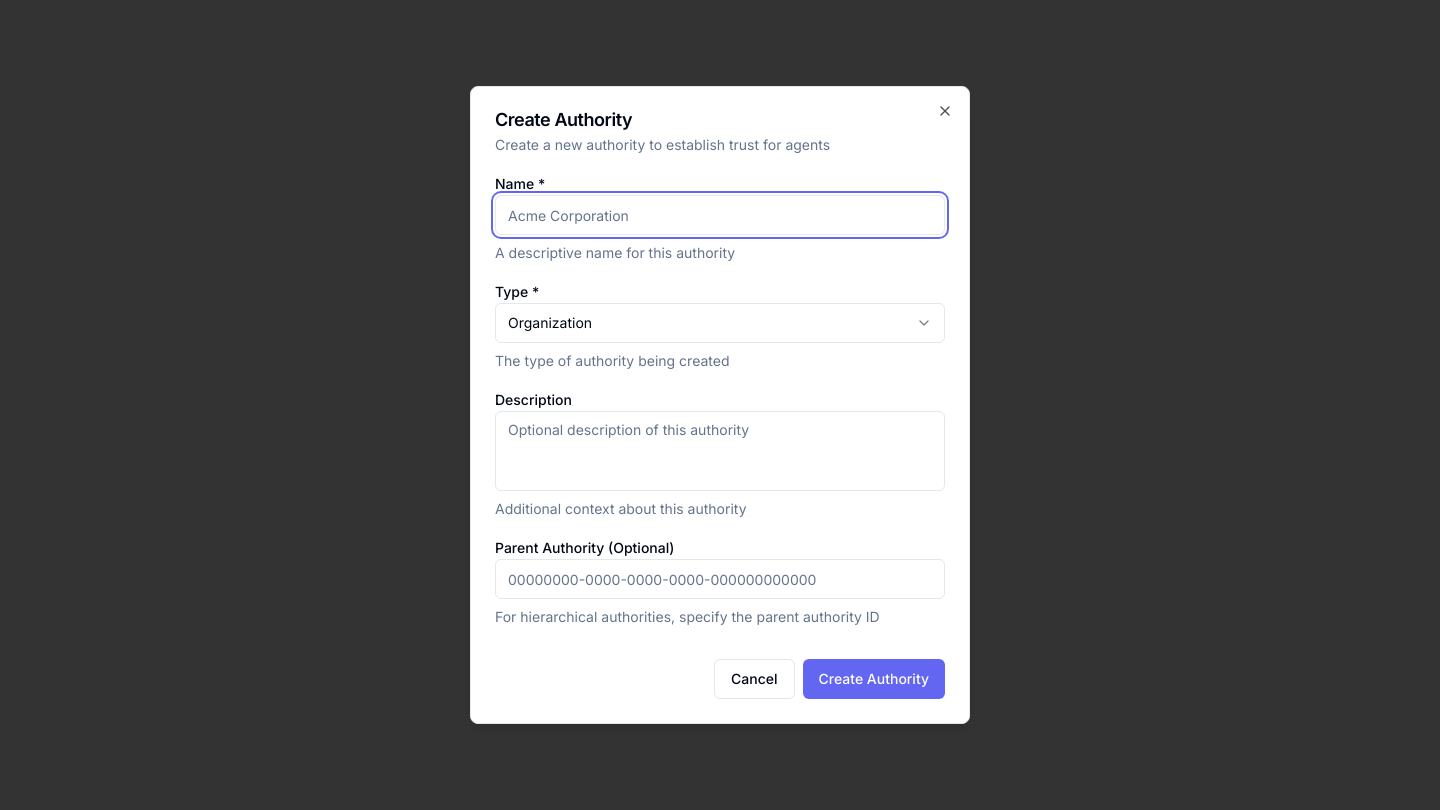
Test: CreateAuthorityDialog › validates required fields
# Try to submit without filling required fields
Click the button "Create Authority".
click(874, 679)  # box [802,659,945,699]
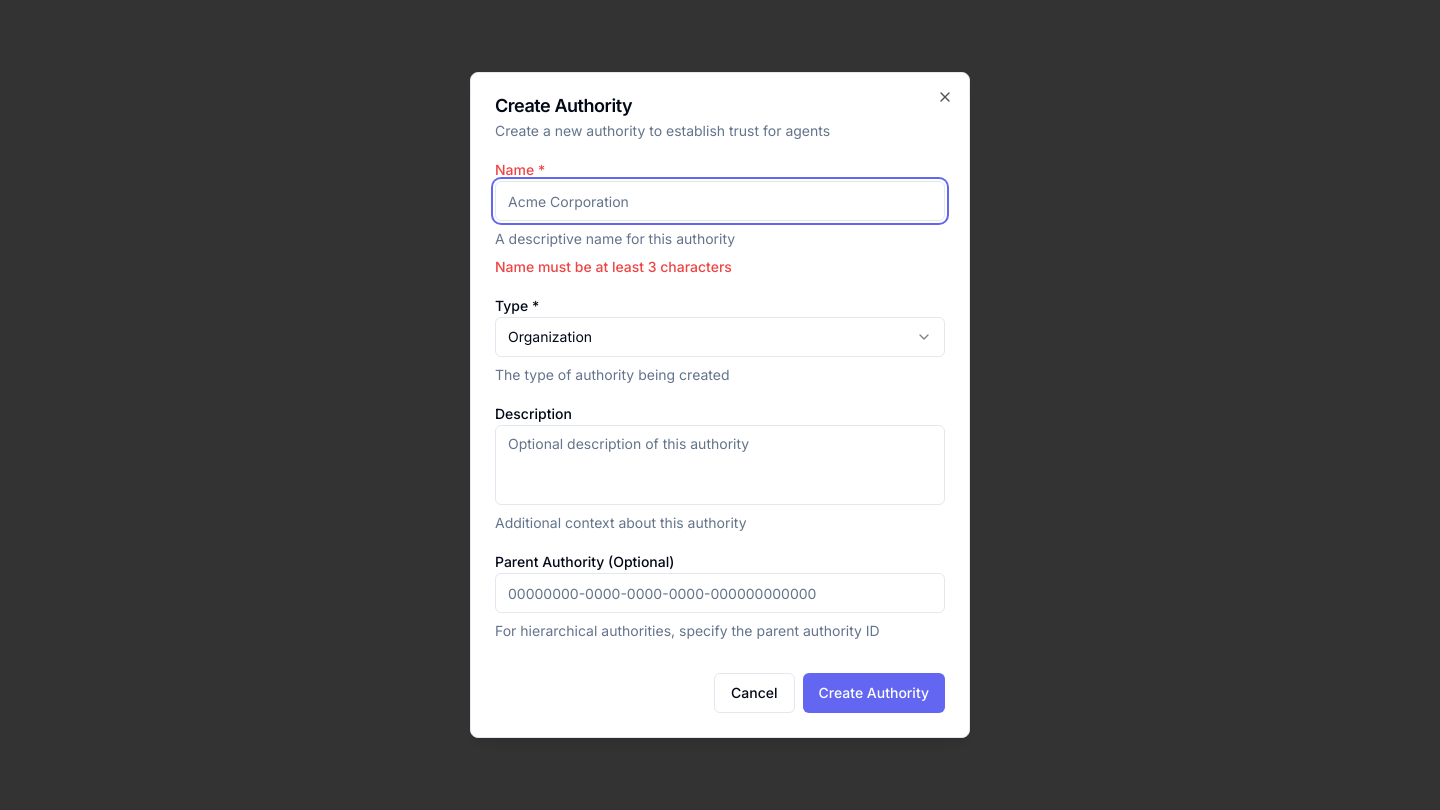
Expected: the text "Name must be at least 3 characters" is shown, [495,258,732,275]
